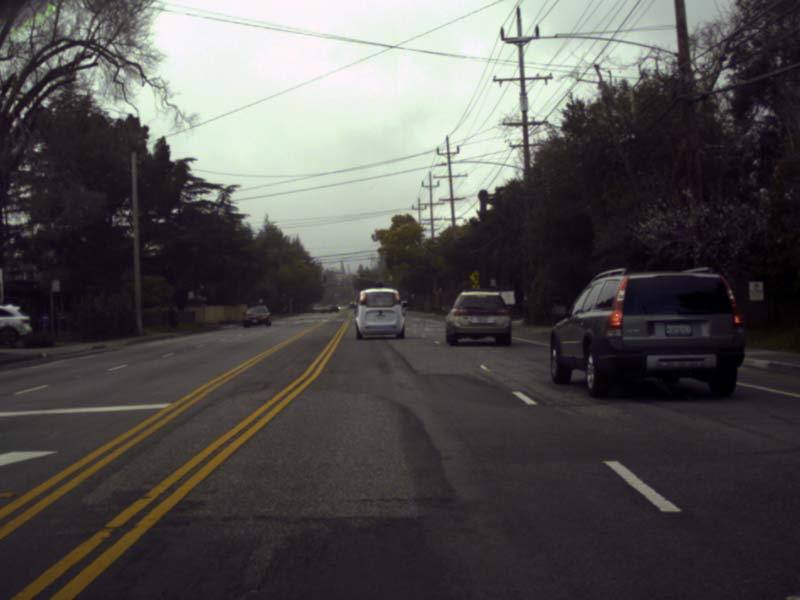Red: (356, 273, 360, 280)
